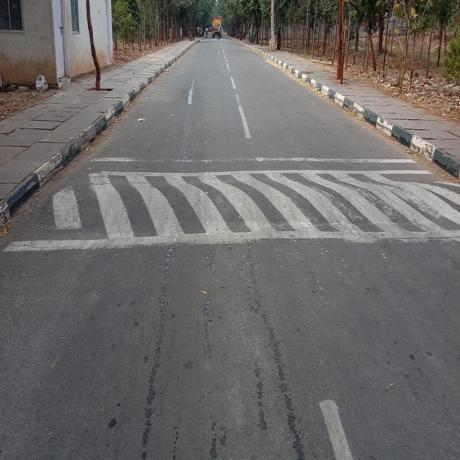Speed Bump: (9, 155, 459, 248)
